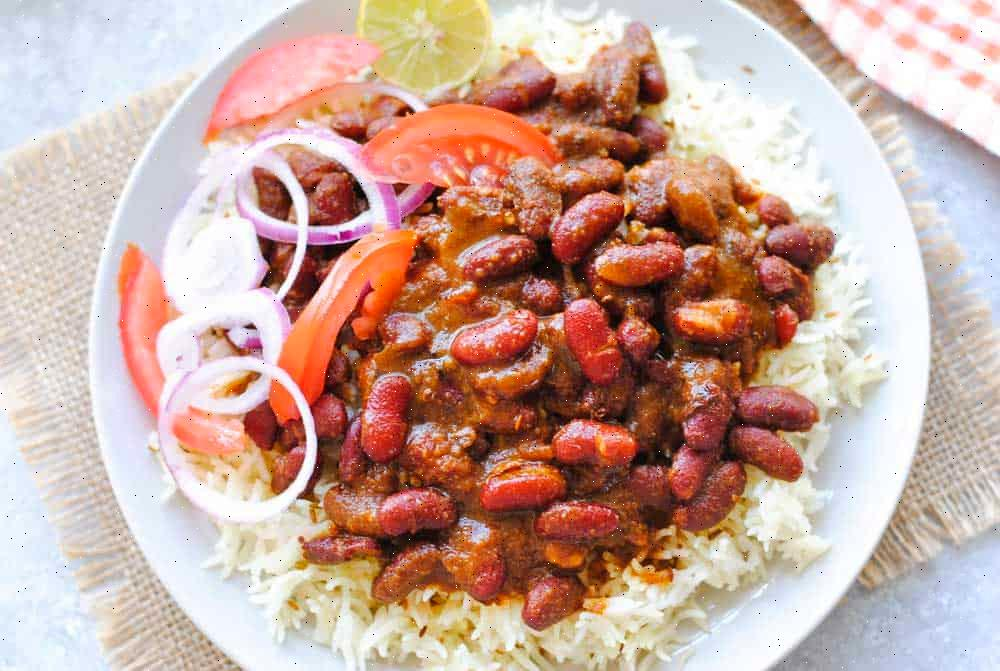rajma: (273, 145, 722, 537)
